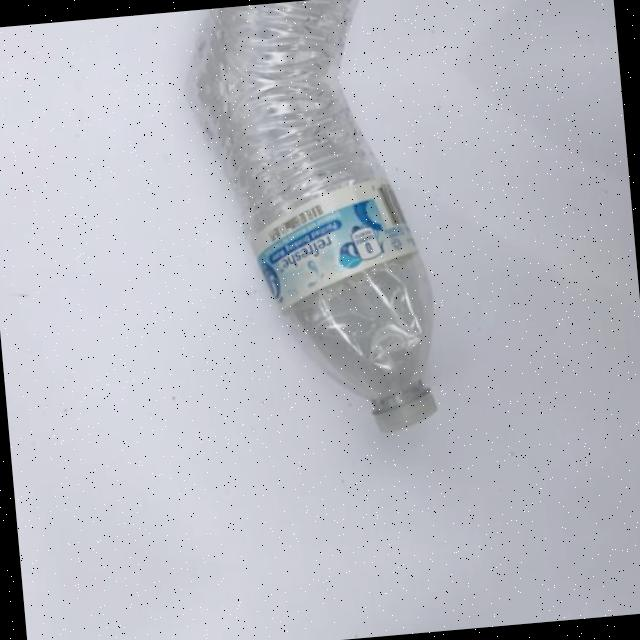Plastic: (161, 62, 526, 474), (153, 0, 492, 92)
